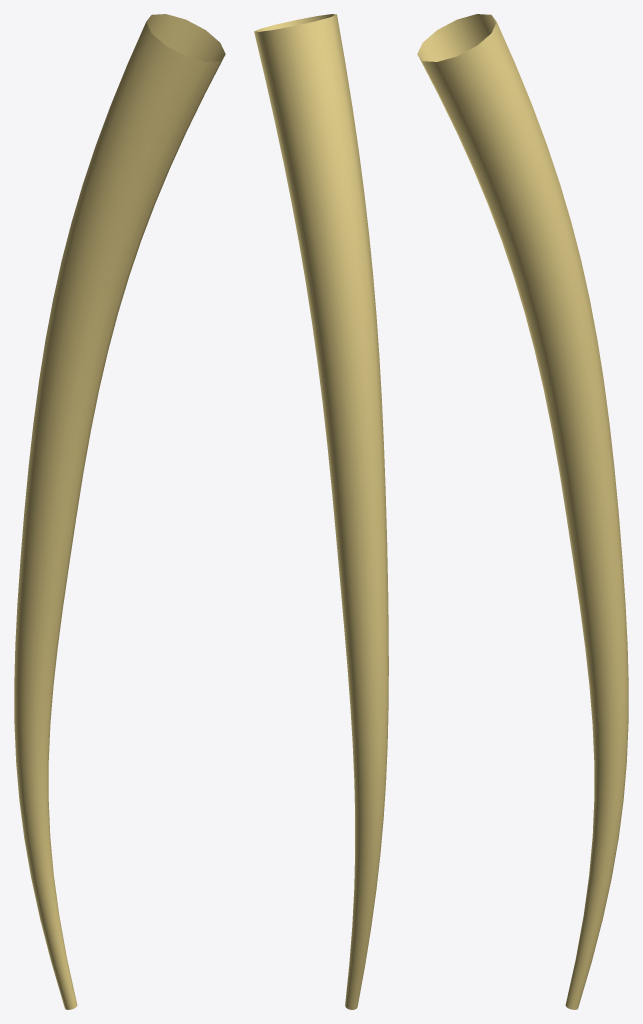
3 renders of one model, left to right at view 1: azimuth 90°, elevation 25°; view 2: azimuth 210°, elevation 25°; view 3: azimuth 270°, elevation 25°, orthographic. The views are drawn at different scales.
Parts seen in each view (by area): view 1: ZA_0fefee1224b097b0; view 2: ZA_0fefee1224b097b0; view 3: ZA_0fefee1224b097b0.
Part boxes in pixels (x1=…): ZA_0fefee1224b097b0: x1=14, y1=14, x2=225, y2=1009; ZA_0fefee1224b097b0: x1=254, y1=14, x2=388, y2=1009; ZA_0fefee1224b097b0: x1=417, y1=14, x2=628, y2=1009.
Size of the model in its own units: 0.003 by 0.0375 by 0.00728.
